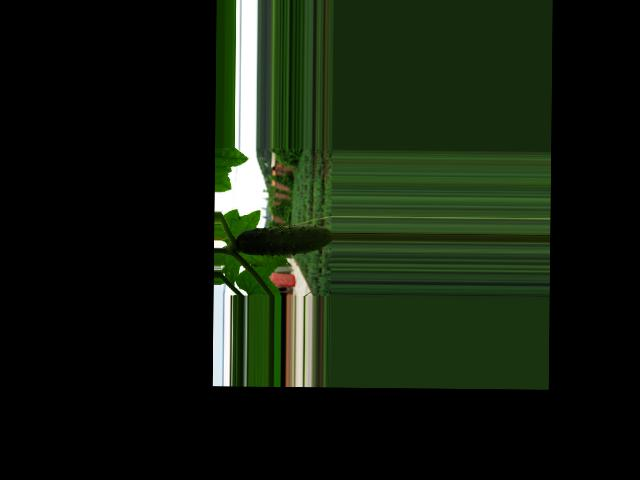cucumber: (236, 224, 332, 256)
